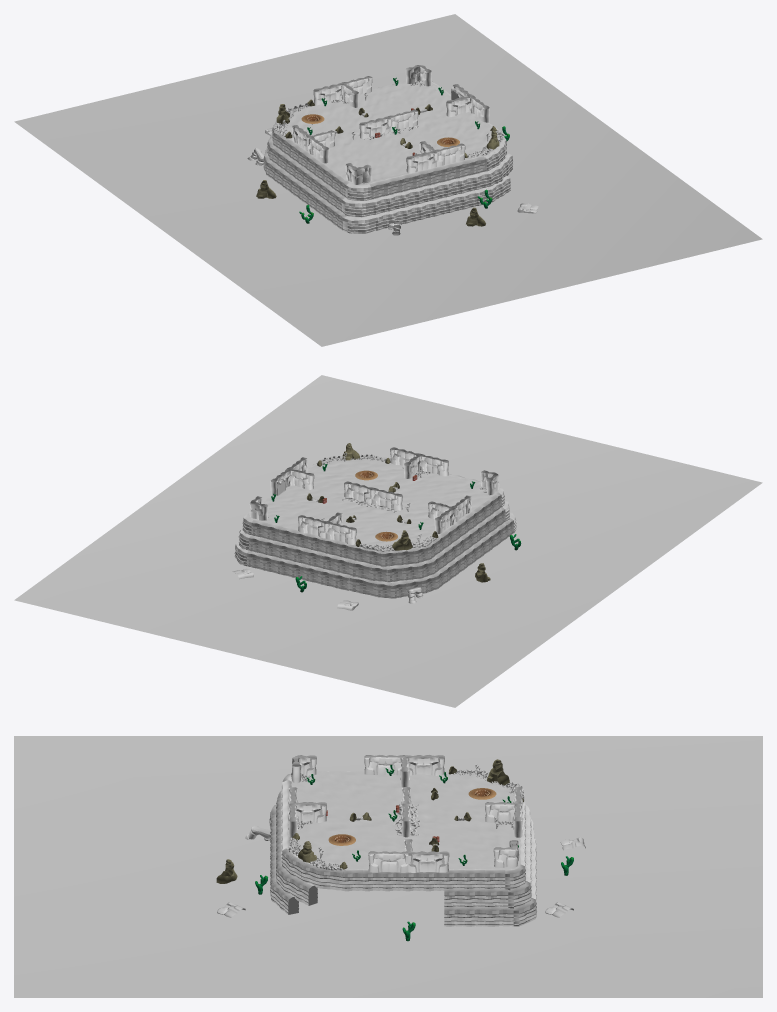
File: Level1_Room7.FBX
3 views of the same model, one above another, from view 1: azimuth 30°, elevation 25°; view 2: azimuth 150°, elevation 25°; view 3: azimuth 270°, elevation 25° (orthographic). The views are drawn at different scales.
Visible parts, largest first — view 1: Floor, Exterior Walls, Walls Interior, GigaRock003, Stones Corner; view 2: Floor, Exterior Walls, Walls Interior, Stones Corner, GigaRock003; view 3: Floor, Exterior Walls, Walls Interior, GigaRock003, Stones Corner, Cactus, Sarlacc, Middle Rocks.
Part boxes in pixels (x1,y1,x2,y2): Floor: [14, 14, 762, 346]; Exterior Walls: [263, 81, 513, 233]; Walls Interior: [265, 65, 538, 213]; GigaRock003: [256, 104, 499, 226]; Stones Corner: [273, 80, 504, 157]; Floor: [14, 375, 762, 707]; Exterior Walls: [234, 455, 516, 598]; Walls Interior: [233, 447, 499, 610]; Stones Corner: [268, 454, 486, 551]; GigaRock003: [342, 443, 490, 582]; Floor: [14, 736, 762, 997]; Exterior Walls: [269, 771, 536, 926]; Walls Interior: [217, 755, 585, 917]; GigaRock003: [216, 759, 509, 883]; Stones Corner: [288, 769, 523, 870]; Cactus: [255, 765, 573, 941]; Sarlacc: [328, 788, 496, 845]; Middle Rocks: [292, 766, 523, 869].
Size of the model in its own units: 4772 by 693 by 5766.
